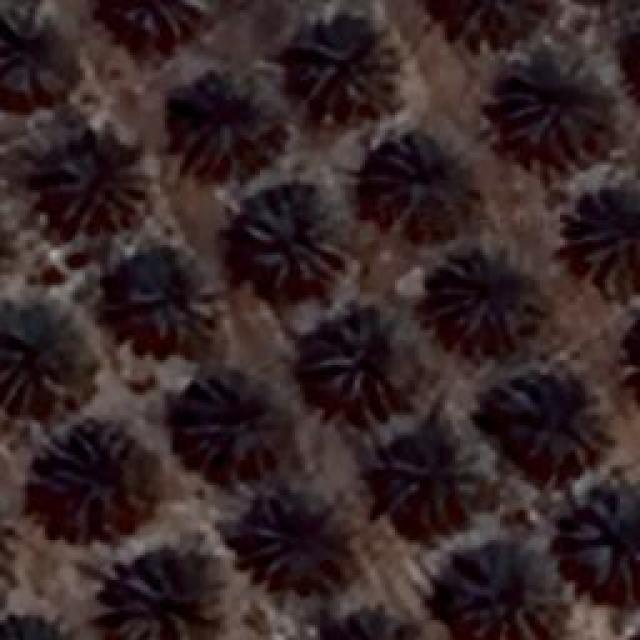PalmTree: (101, 28, 485, 625), (242, 192, 348, 286), (111, 260, 219, 352), (41, 432, 151, 522), (435, 248, 540, 342), (450, 547, 562, 635), (176, 78, 276, 174), (500, 69, 602, 159), (310, 302, 400, 400), (50, 140, 148, 228), (184, 377, 282, 465), (381, 438, 479, 522), (246, 492, 339, 580), (0, 308, 88, 400), (570, 182, 638, 296), (498, 390, 592, 470), (298, 30, 392, 110), (371, 142, 464, 222), (107, 560, 195, 638), (572, 490, 638, 588), (0, 13, 75, 96), (110, 0, 207, 32), (0, 613, 88, 640), (0, 483, 17, 598), (0, 620, 91, 640), (622, 9, 640, 110), (0, 483, 14, 596), (0, 481, 11, 592)
